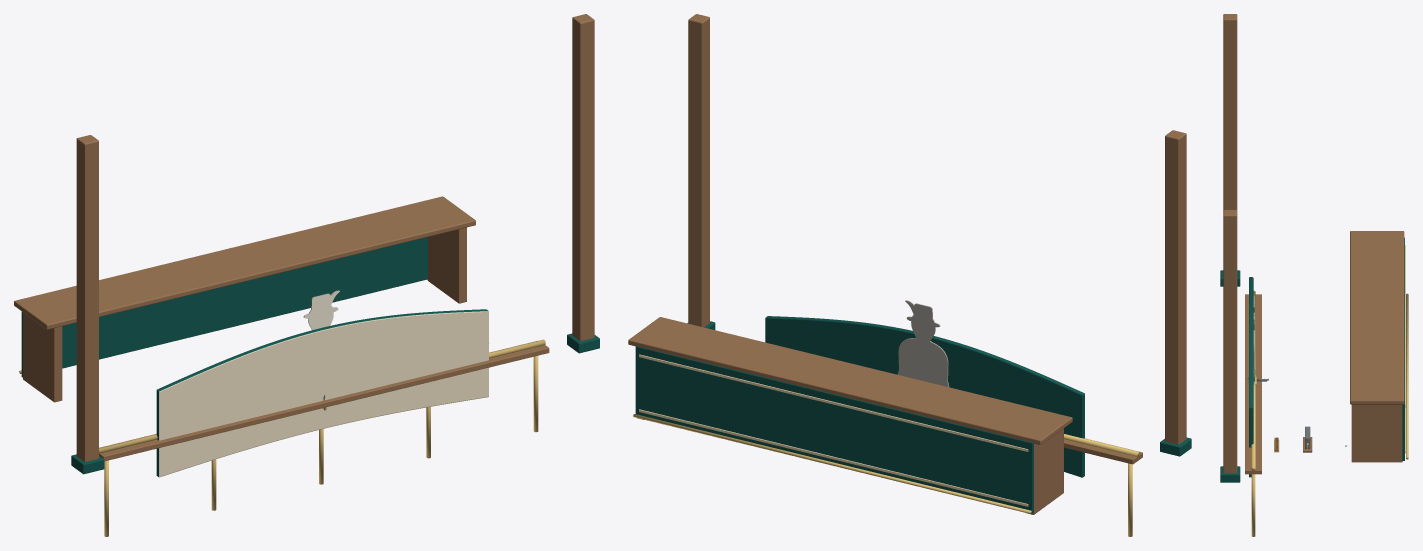
The model's file is booth.glb.
The picture shows the model from 3 angles, left to right: view 1: azimuth 30°, elevation 25°; view 2: azimuth 150°, elevation 25°; view 3: azimuth 270°, elevation 25°; orthographic projection. The views are drawn at different scales.
Parts seen in each view (by area): view 1: COUNTER, MARQUEE, POSTS, RAIL; view 2: COUNTER, POSTS, MARQUEE, TGT_duchess, RAIL, TGT_ringmaster, TGT_sailor, TGT_strongman; view 3: COUNTER, POSTS, RAIL, MARQUEE.
Part boxes in pixels (left/top/right/bottom): COUNTER: left=14, top=196, right=475, bottom=402; MARQUEE: left=156, top=309, right=488, bottom=477; POSTS: left=71, top=14, right=599, bottom=474; RAIL: left=99, top=339, right=549, bottom=536; COUNTER: left=628, top=317, right=1072, bottom=514; POSTS: left=687, top=14, right=1191, bottom=456; MARQUEE: left=765, top=316, right=1084, bottom=477; TGT_duchess: left=897, top=300, right=949, bottom=387; RAIL: left=1064, top=434, right=1142, bottom=536; TGT_ringmaster: left=899, top=303, right=946, bottom=386; TGT_sailor: left=901, top=315, right=945, bottom=384; TGT_strongman: left=898, top=313, right=948, bottom=386; COUNTER: left=1350, top=231, right=1408, bottom=462; POSTS: left=1220, top=14, right=1240, bottom=482; RAIL: left=1245, top=290, right=1261, bottom=536; MARQUEE: left=1249, top=277, right=1253, bottom=477.
Size of the model in its own units: 6.26 by 4.8 by 2.44.
